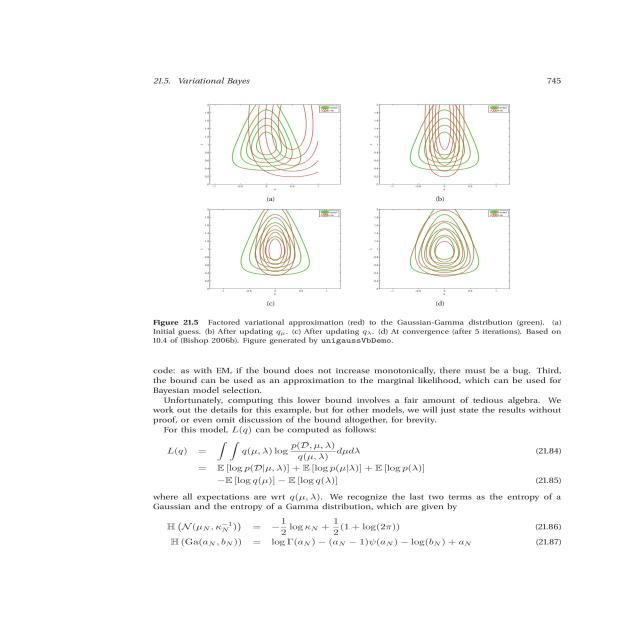diagram: (93, 95, 607, 353)
